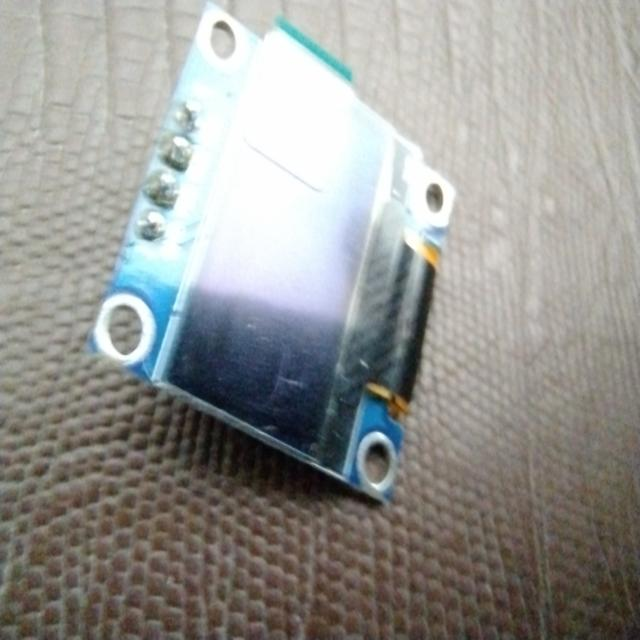oled: (94, 0, 460, 507)
